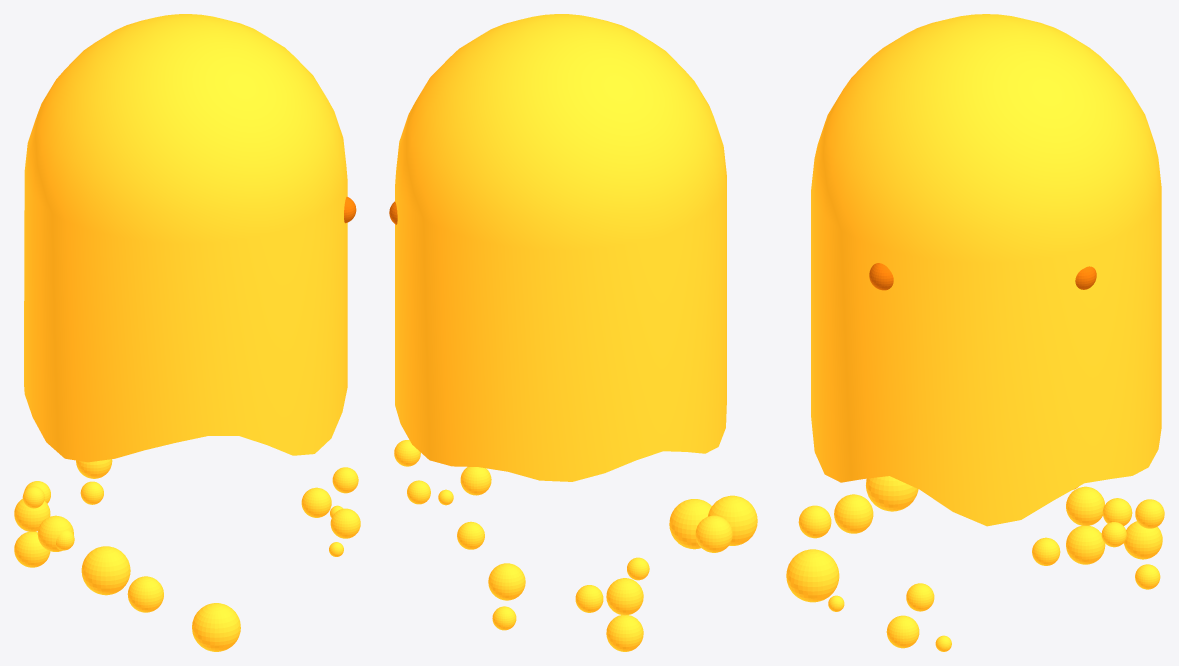
Rendered from okay.fbx.
The picture shows the model from 3 angles, left to right: view 1: azimuth 30°, elevation 25°; view 2: azimuth 150°, elevation 25°; view 3: azimuth 270°, elevation 25°; orthographic projection. The views are drawn at different scales.
Visible parts, largest first — view 1: Sphere.049, Sphere.069, Sphere.059, Sphere.060, Sphere.055, Sphere.070, Sphere.052, Sphere.058, Sphere.068, Sphere.071, Sphere.062; view 2: Sphere.049, Sphere.069, Sphere.059, Sphere.052, Sphere.062, Sphere.070, Sphere.055, Sphere.058, Sphere.053, Sphere.063, Sphere.061; view 3: Sphere.049, Sphere.059, Sphere.069, Sphere.060, Sphere.052, Sphere.055, Sphere.062, Sphere.058, Sphere.068, Sphere.063, Sphere.071, Sphere.061 (+1 smaller).
Boxes of the visible parts, x1=… form: Sphere.049: x1=24, y1=14, x2=347, y2=462; Sphere.069: x1=81, y1=546, x2=130, y2=595; Sphere.059: x1=192, y1=603, x2=240, y2=651; Sphere.060: x1=127, y1=576, x2=163, y2=612; Sphere.055: x1=14, y1=531, x2=50, y2=567; Sphere.070: x1=37, y1=515, x2=73, y2=551; Sphere.052: x1=14, y1=498, x2=50, y2=531; Sphere.058: x1=330, y1=508, x2=360, y2=538; Sphere.068: x1=301, y1=487, x2=331, y2=517; Sphere.071: x1=332, y1=467, x2=358, y2=493; Sphere.062: x1=76, y1=459, x2=112, y2=478; Sphere.049: x1=395, y1=14, x2=726, y2=481; Sphere.069: x1=707, y1=495, x2=757, y2=545; Sphere.059: x1=669, y1=499, x2=711, y2=549; Sphere.052: x1=606, y1=578, x2=643, y2=615; Sphere.062: x1=488, y1=563, x2=525, y2=600; Sphere.070: x1=695, y1=515, x2=732, y2=552; Sphere.055: x1=606, y1=615, x2=643, y2=651; Sphere.058: x1=460, y1=467, x2=491, y2=495; Sphere.053: x1=575, y1=585, x2=603, y2=612; Sphere.063: x1=457, y1=521, x2=484, y2=549; Sphere.061: x1=394, y1=440, x2=420, y2=466; Sphere.049: x1=811, y1=14, x2=1161, y2=526; Sphere.059: x1=786, y1=549, x2=839, y2=602; Sphere.069: x1=866, y1=476, x2=918, y2=511; Sphere.060: x1=834, y1=494, x2=873, y2=533; Sphere.052: x1=1066, y1=486, x2=1104, y2=525; Sphere.055: x1=1066, y1=525, x2=1105, y2=564; Sphere.062: x1=1123, y1=521, x2=1162, y2=559; Sphere.058: x1=886, y1=615, x2=919, y2=648; Sphere.068: x1=798, y1=505, x2=831, y2=538; Sphere.063: x1=1135, y1=499, x2=1164, y2=528; Sphere.071: x1=906, y1=583, x2=934, y2=611; Sphere.061: x1=1032, y1=537, x2=1060, y2=565.
Bounding box in the file's own units: 313 × 556 × 320.
